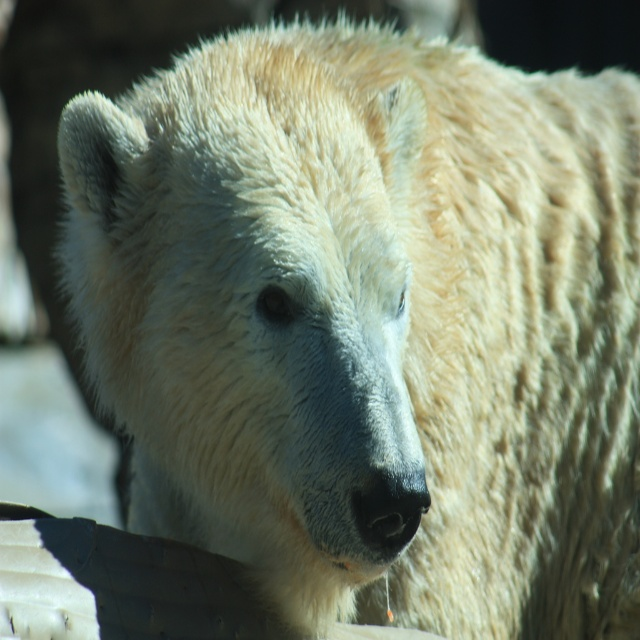Polar bear: (52, 5, 640, 639)
